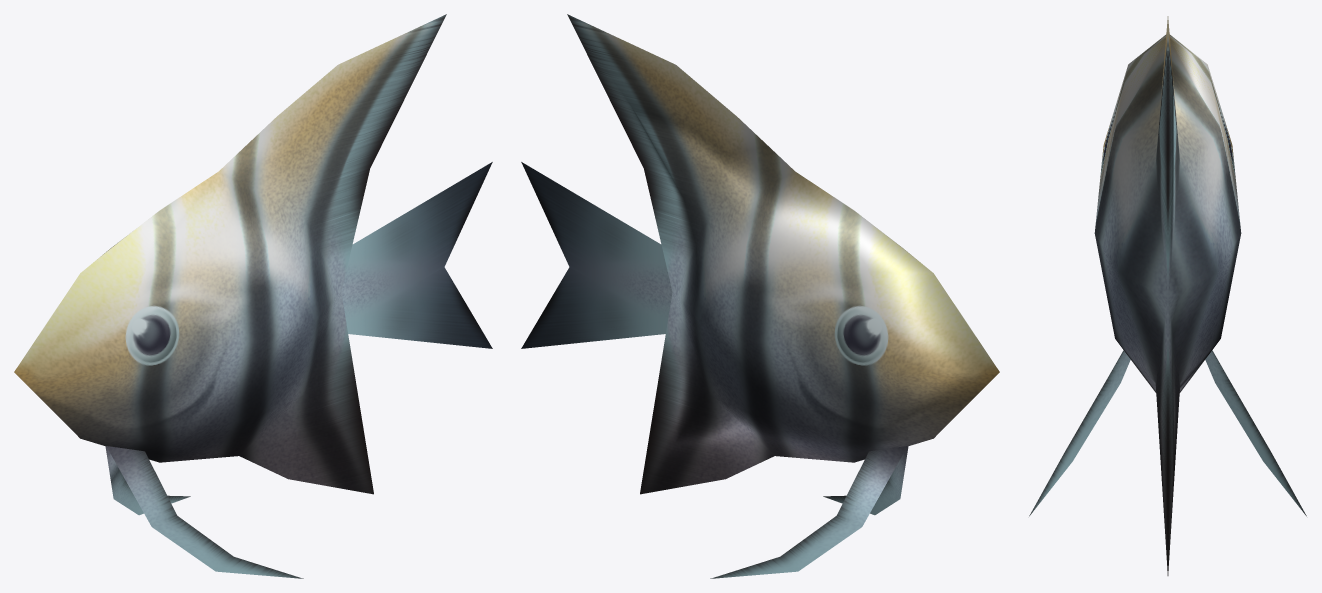
Rendered from model_tropical_fish.fbx.
The picture shows the model from 3 angles, left to right: view 1: azimuth 30°, elevation 25°; view 2: azimuth 150°, elevation 25°; view 3: azimuth 270°, elevation 25°; orthographic projection. The views are drawn at different scales.
Parts seen in each view (by area): view 1: model_tropical_fish; view 2: model_tropical_fish; view 3: model_tropical_fish.
Part boxes in pixels (left/top/right/bottom): model_tropical_fish: left=14, top=14, right=492, bottom=578; model_tropical_fish: left=521, top=14, right=999, bottom=578; model_tropical_fish: left=1029, top=16, right=1306, bottom=575.
Size of the model in its own units: 12.57 by 11.92 by 5.13.
